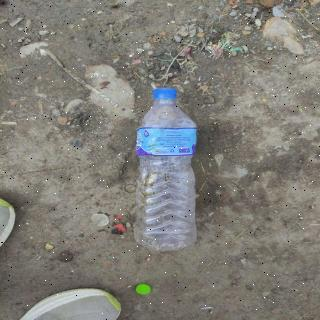Plastic-bottle: (132, 88, 201, 257)
